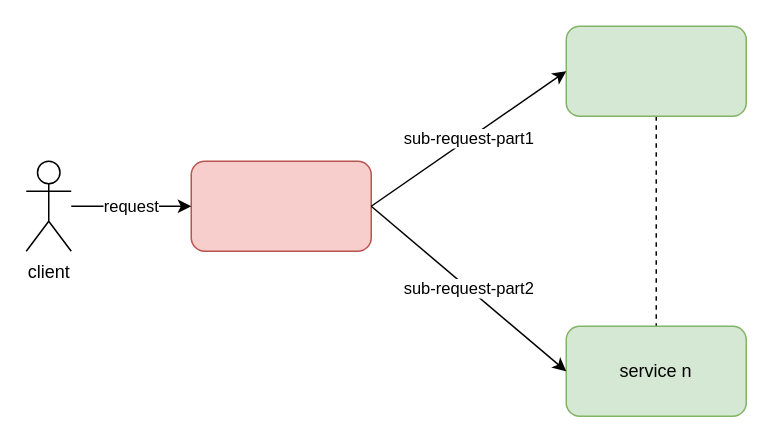
Some shapes in this 773 by 443 pixel diagram are drawn without their labels. Each missing label, with the centre of its shape:
"Scatter/Gather" belongs at point (280, 205).
"service 1" belongs at point (655, 70).
